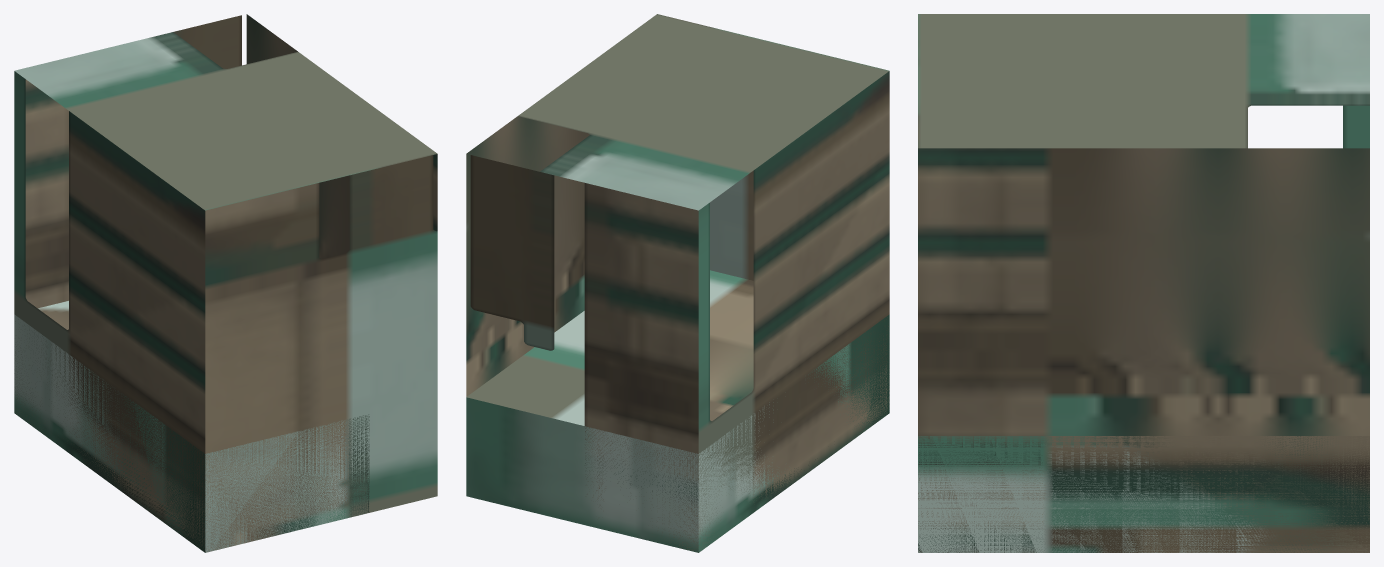
File: section-4.obj
The picture shows the model from 3 angles, left to right: view 1: azimuth 30°, elevation 25°; view 2: azimuth 150°, elevation 25°; view 3: azimuth 270°, elevation 25°; orthographic projection. The views are drawn at different scales.
Size of the model in its own units: 0.6846 by 0.963 by 0.9741.
